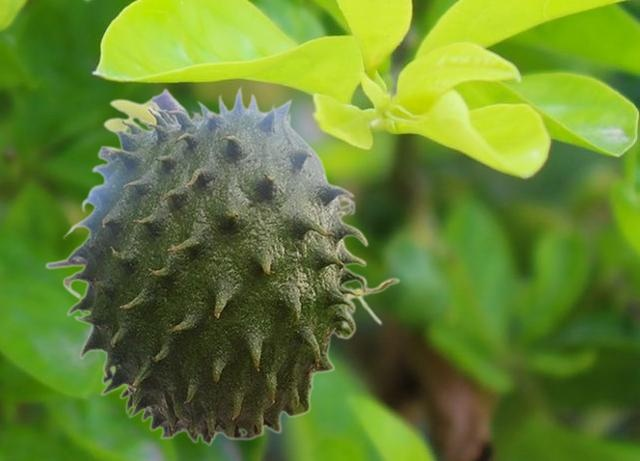guyabano: (44, 84, 400, 446)
